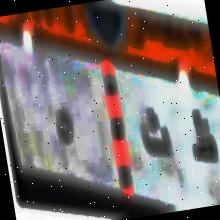Thaa: (184, 103, 220, 171)
thaa: (135, 102, 174, 164), (51, 98, 78, 154)
